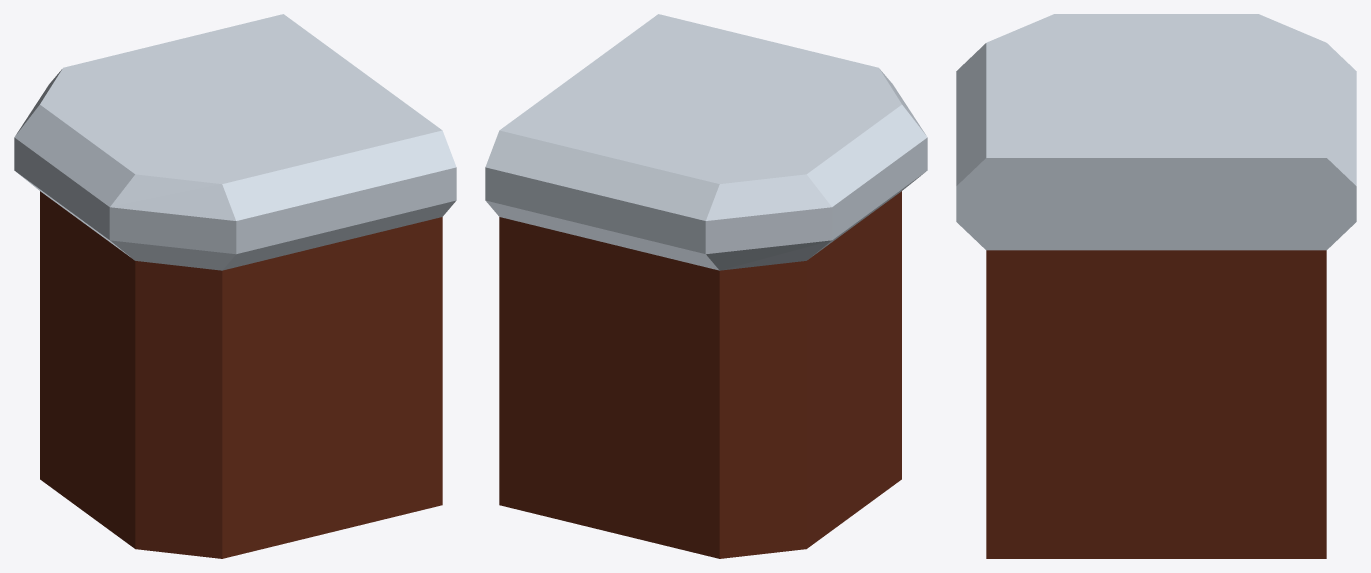
File: SnowDCorner.fbx
3 renders of one model, left to right at view 1: azimuth 30°, elevation 25°; view 2: azimuth 150°, elevation 25°; view 3: azimuth 270°, elevation 25°, orthographic. The views are drawn at different scales.
Visible parts, largest first — view 1: Cube.001; view 2: Cube.001; view 3: Cube.001.
Boxes of the visible parts, left/top/right/bottom form: Cube.001: left=14, top=14, right=456, bottom=558; Cube.001: left=485, top=14, right=927, bottom=558; Cube.001: left=956, top=14, right=1356, bottom=558.
Size of the model in its own units: 219 by 260 by 235.
